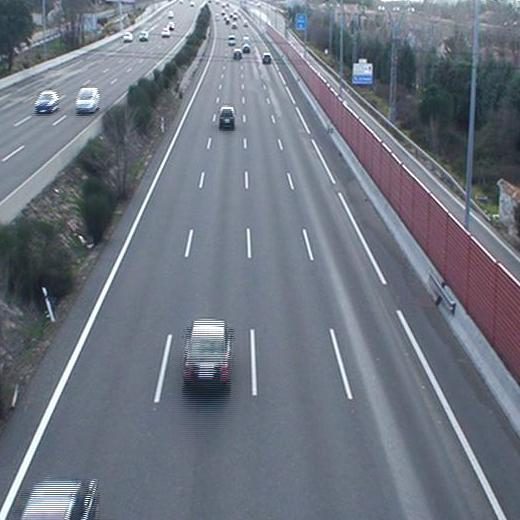car: (183, 318, 233, 392), (218, 106, 237, 130), (231, 48, 244, 62), (260, 53, 273, 65)
